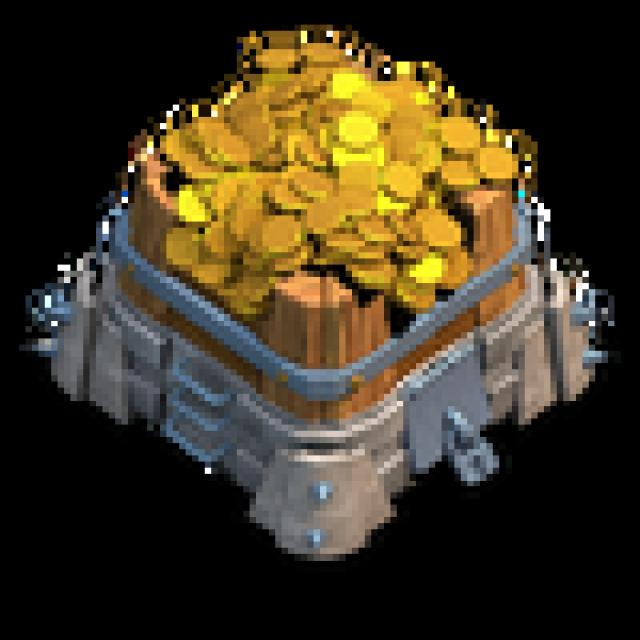gold_storage: (27, 0, 636, 581)
